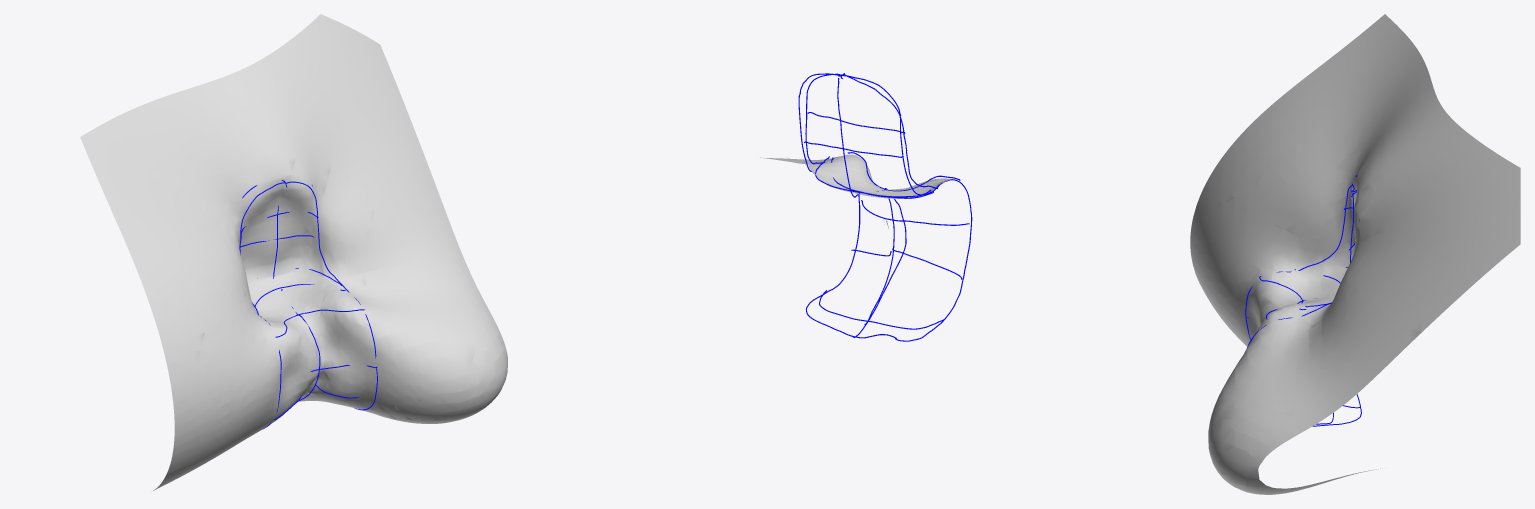
Rendered from scaffold_sketch_P3_open_sketch_proxy.glb.
3 views of the same model, side by side, from view 1: azimuth 30°, elevation 25°; view 2: azimuth 150°, elevation 25°; view 3: azimuth 270°, elevation 25° (orthographic). The views are drawn at different scales.
Visible parts, largest first — view 1: scaffold_sketch_P3_open_surface, scaffold_sketch_P3_open; view 2: scaffold_sketch_P3_open, scaffold_sketch_P3_open_surface; view 3: scaffold_sketch_P3_open_surface, scaffold_sketch_P3_open.
Boxes of the visible parts, bbox=[...] form: scaffold_sketch_P3_open_surface: bbox=[80, 14, 507, 490]; scaffold_sketch_P3_open: bbox=[239, 180, 377, 429]; scaffold_sketch_P3_open: bbox=[798, 73, 972, 341]; scaffold_sketch_P3_open_surface: bbox=[760, 154, 953, 228]; scaffold_sketch_P3_open_surface: bbox=[1190, 14, 1520, 494]; scaffold_sketch_P3_open: bbox=[1245, 175, 1361, 426].
Size of the model in its own units: 1.75 by 1.5 by 1.33.
